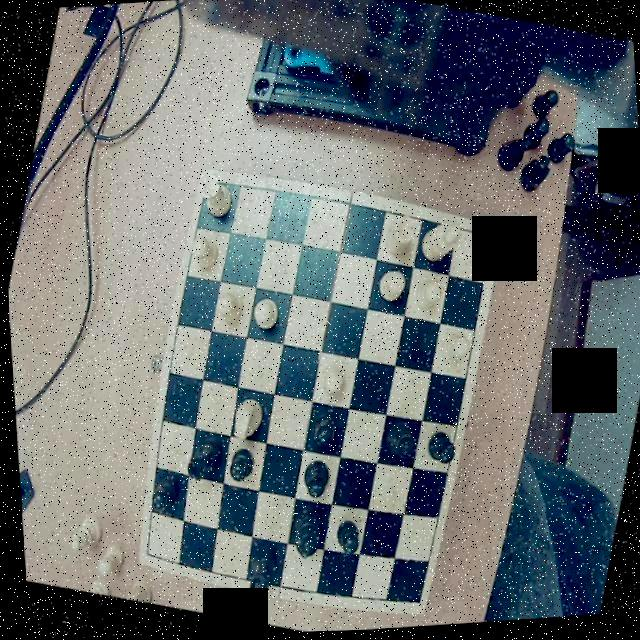chess-table-corners: (195, 170, 223, 202), (472, 227, 500, 254), (403, 586, 426, 618), (136, 543, 160, 570)
